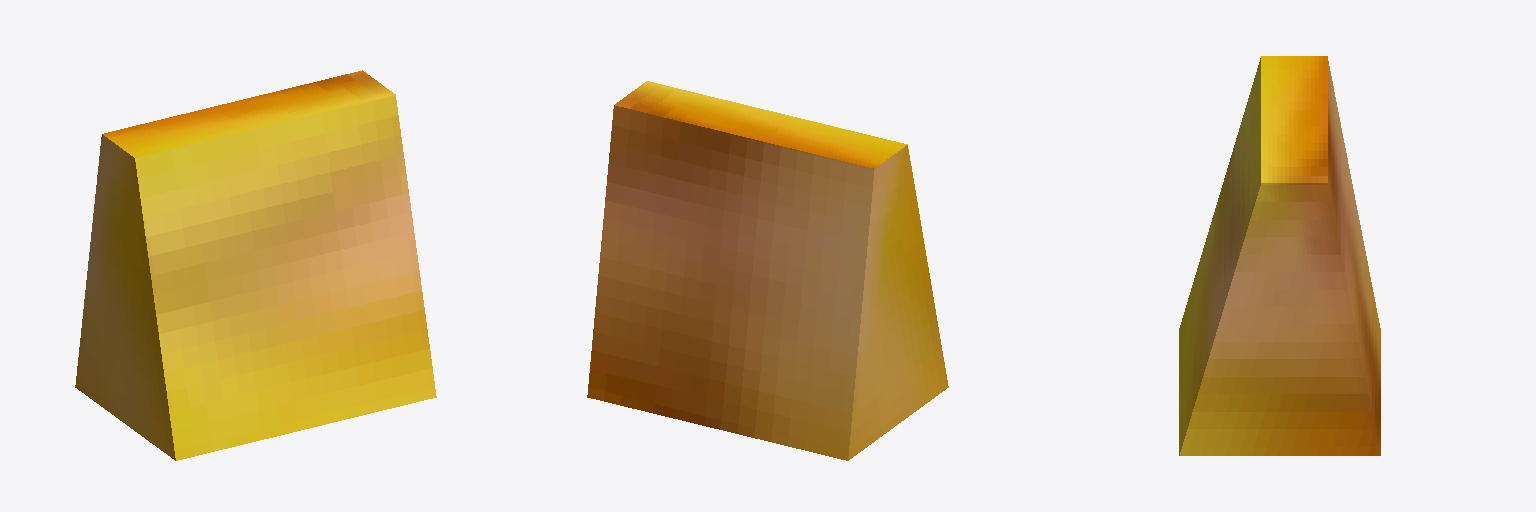
3 views of the same model, side by side, from view 1: azimuth 30°, elevation 25°; view 2: azimuth 150°, elevation 25°; view 3: azimuth 270°, elevation 25° (orthographic).
Parts seen in each view (by area): view 1: Cube; view 2: Cube; view 3: Cube.
Boxes of the visible parts, x1=… form: Cube: x1=75, y1=70, x2=436, y2=460; Cube: x1=587, y1=81, x2=948, y2=460; Cube: x1=1179, y1=56, x2=1380, y2=455.
Bounding box in the file's own units: 7.29 × 7.29 × 4.87.
Materials: 1 (1 with a texture image).